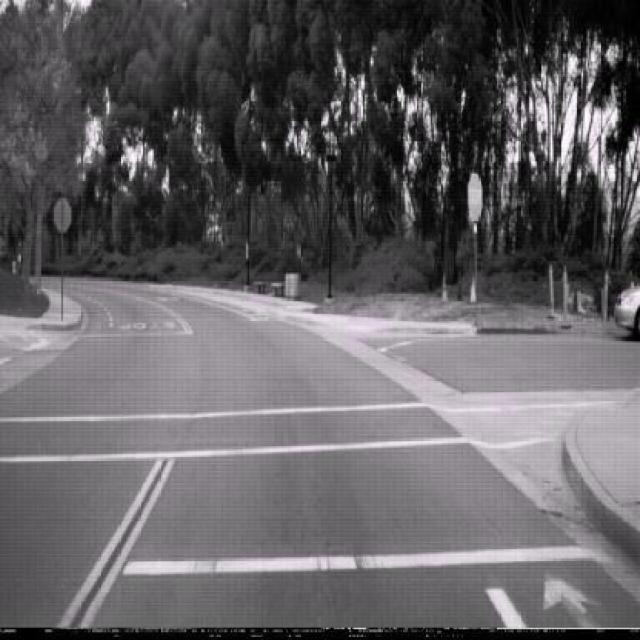stop: (468, 171, 484, 222)
